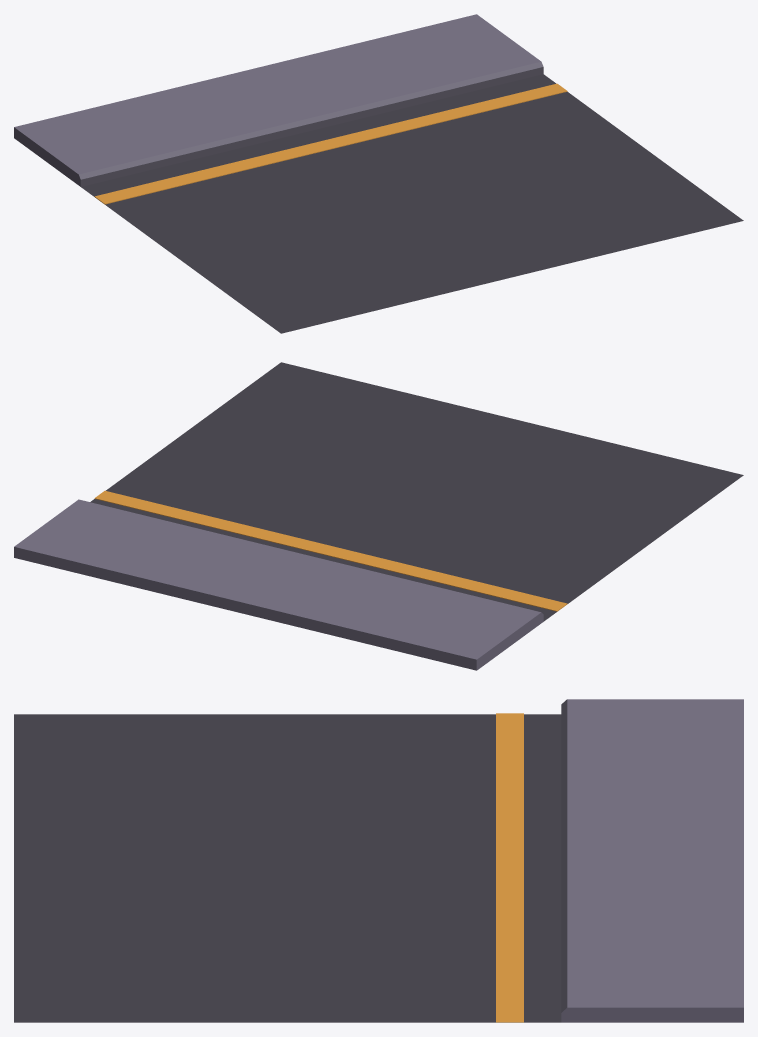
Rendered from street1_duz.fbx.
The picture shows the model from 3 angles, top to bottom: view 1: azimuth 30°, elevation 25°; view 2: azimuth 150°, elevation 25°; view 3: azimuth 270°, elevation 25°; orthographic projection. The views are drawn at different scales.
Visible parts, largest first — view 1: yol.001; view 2: yol.001; view 3: yol.001.
Boxes of the visible parts, left/top/right/bottom form: yol.001: left=14, top=14, right=743, bottom=333; yol.001: left=14, top=362, right=743, bottom=670; yol.001: left=14, top=699, right=743, bottom=1022.
Bounding box in the file's own units: 779 × 17.75 × 779.
3 materials, 1 textured.
